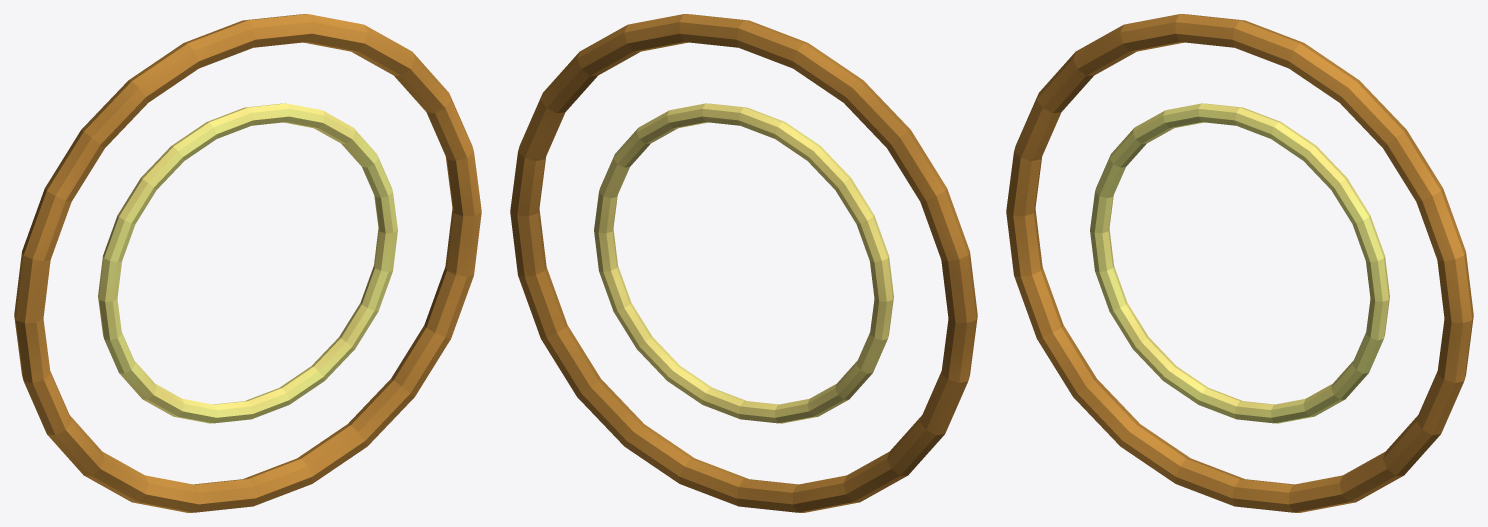
File: boss-rally-aura.glb
3 renders of one model, left to right at view 1: azimuth 30°, elevation 25°; view 2: azimuth 150°, elevation 25°; view 3: azimuth 330°, elevation 25°, orthographic.
Visible parts, largest first — view 1: rally-ring-outer, rally-ring-inner; view 2: rally-ring-outer, rally-ring-inner; view 3: rally-ring-outer, rally-ring-inner.
Part boxes in pixels (x1,y1,x2,y2): rally-ring-outer: [14, 14, 481, 512]; rally-ring-inner: [98, 103, 397, 423]; rally-ring-outer: [510, 14, 977, 512]; rally-ring-inner: [594, 103, 893, 423]; rally-ring-outer: [1006, 14, 1473, 512]; rally-ring-inner: [1090, 103, 1389, 423].
Size of the model in its own units: 1.06 by 1.06 by 0.06.
Materials: 2 (2 with a texture image).
